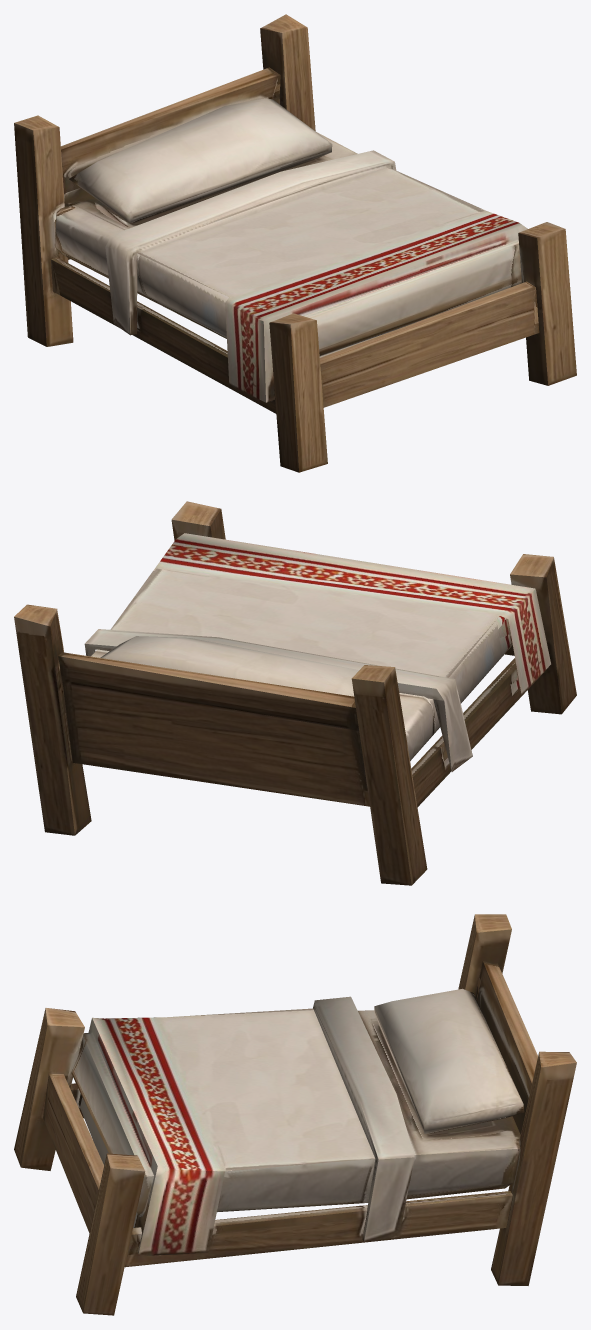
Rendered from act1_kit_v1_hospice_bed.glb.
3 views of the same model, one above another, from view 1: azimuth 30°, elevation 25°; view 2: azimuth 150°, elevation 25°; view 3: azimuth 270°, elevation 25° (orthographic). The views are drawn at different scales.
Visible parts, largest first — view 1: A11_2_hospice_bed; view 2: A11_2_hospice_bed; view 3: A11_2_hospice_bed.
Part boxes in pixels (<box>): A11_2_hospice_bed: <box>14,14,576,472</box>; A11_2_hospice_bed: <box>14,501,576,885</box>; A11_2_hospice_bed: <box>14,914,576,1315</box>.
Bounding box in the file's own units: 0.8055 × 0.4405 × 0.9907.
Materials: 1 (1 with a texture image).
